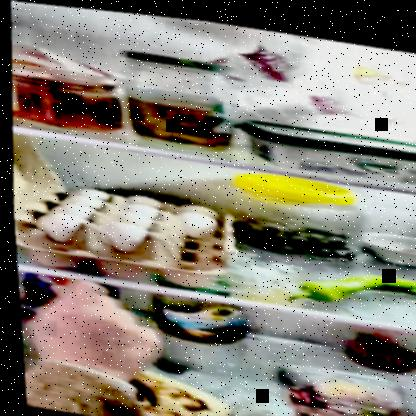cream_cheese: (241, 112, 415, 178)
eggs: (41, 184, 216, 261)
green_chillies: (277, 254, 415, 313)
olives: (232, 201, 351, 253)
